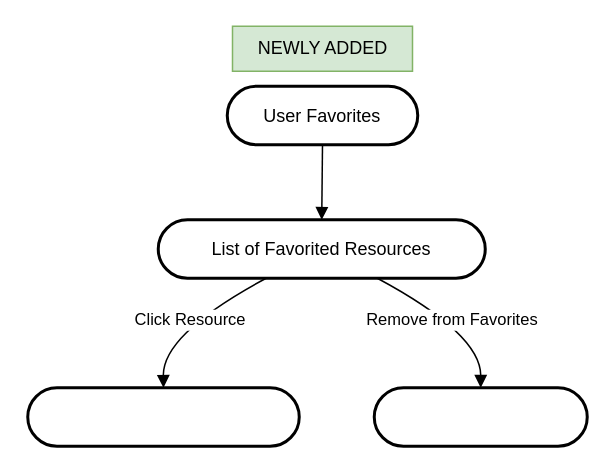
Image size: 614x474. Some labels were removed from this diagram. Here are the shapes that lost their labels. From the top down, the box of each, then its label:
(26, 386, 300, 447): Resource Details Page
(372, 386, 588, 447): Confirm Remove
